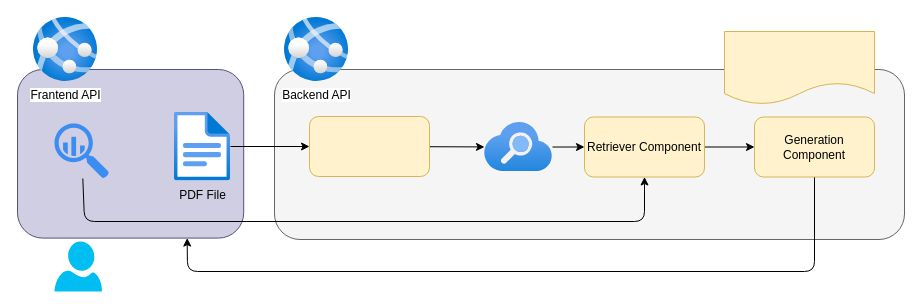
The diagram is 922 pixels wide and 308 high, and some of its shapes have lost their labels. The shapes that lost their labels are listed below. From the top down, each one's centre as x and y in pixels, then its label:
At point (799, 67): "Evaluation Pipeline".
At point (81, 150): "Select Question".
At point (369, 146): "Ingestion component".
